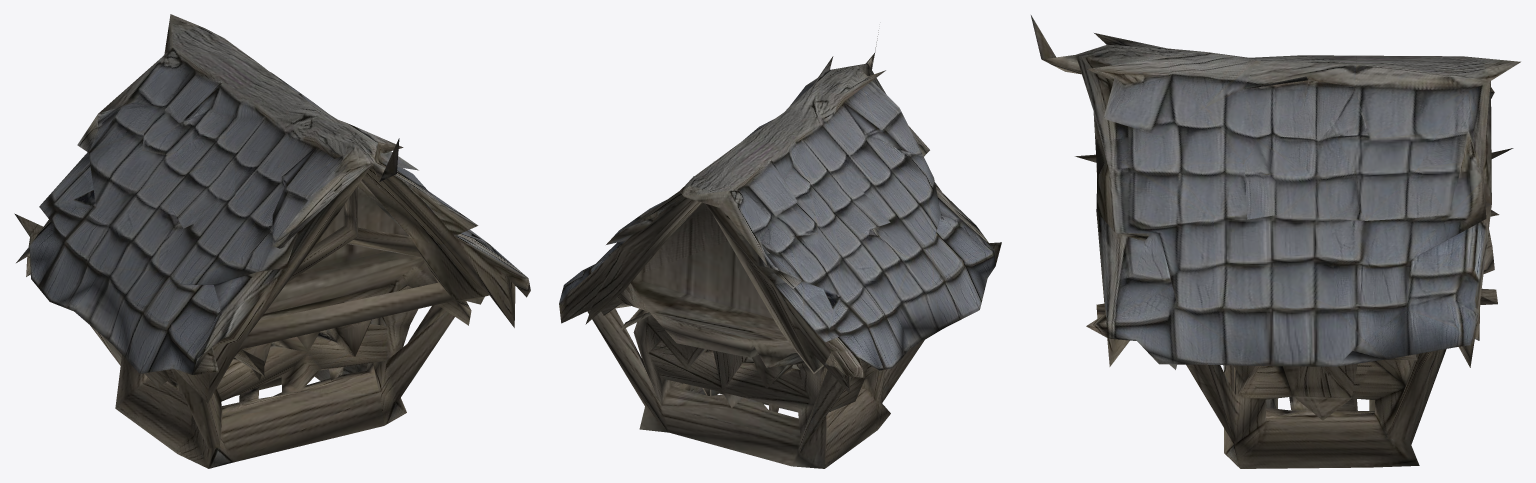
File: prop-hut-roof.glb
3 views of the same model, side by side, from view 1: azimuth 30°, elevation 25°; view 2: azimuth 150°, elevation 25°; view 3: azimuth 270°, elevation 25° (orthographic). The views are drawn at different scales.
Bounding box in the file's own units: 1.87 × 1.8 × 2.
1 material, 1 textured.
